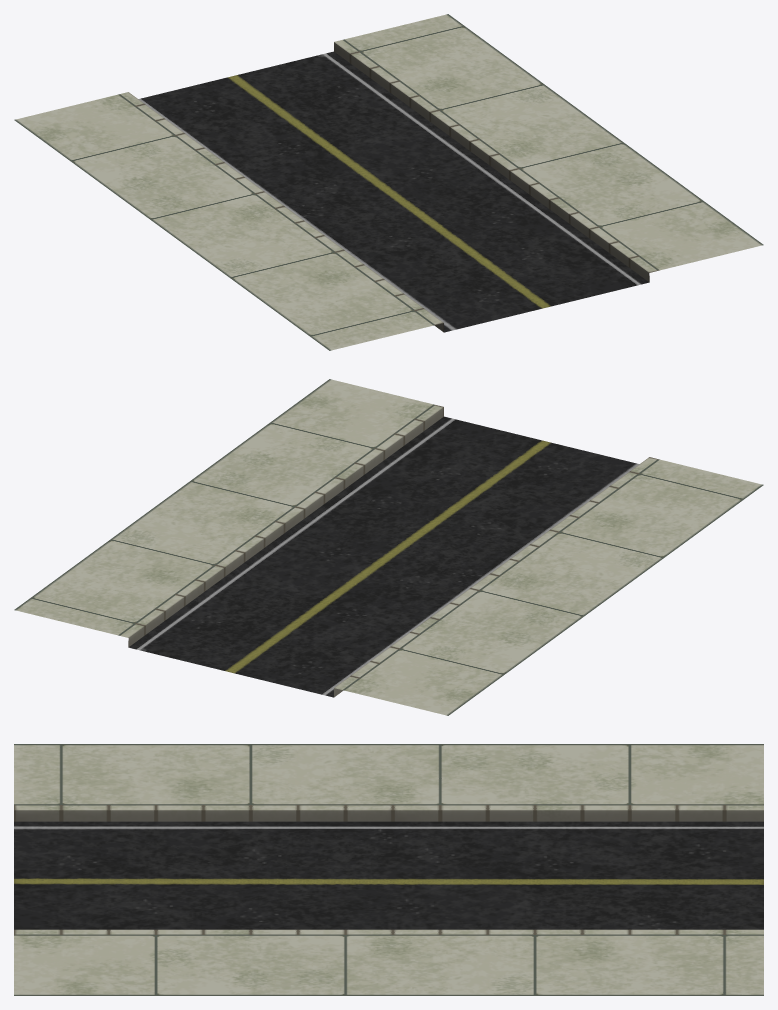
Rendered from AsfaltoReto.fbx.
3 renders of one model, top to bottom at view 1: azimuth 30°, elevation 25°; view 2: azimuth 150°, elevation 25°; view 3: azimuth 270°, elevation 25°, orthographic. The views are drawn at different scales.
Visible parts, largest first — view 1: AsfaltoReto.002; view 2: AsfaltoReto.002; view 3: AsfaltoReto.002.
Boxes of the visible parts, x1,y1,x2,y2 form: AsfaltoReto.002: (14, 14, 763, 350); AsfaltoReto.002: (14, 379, 763, 715); AsfaltoReto.002: (14, 744, 763, 995).
Size of the model in its own units: 707 by 15.01 by 891.
